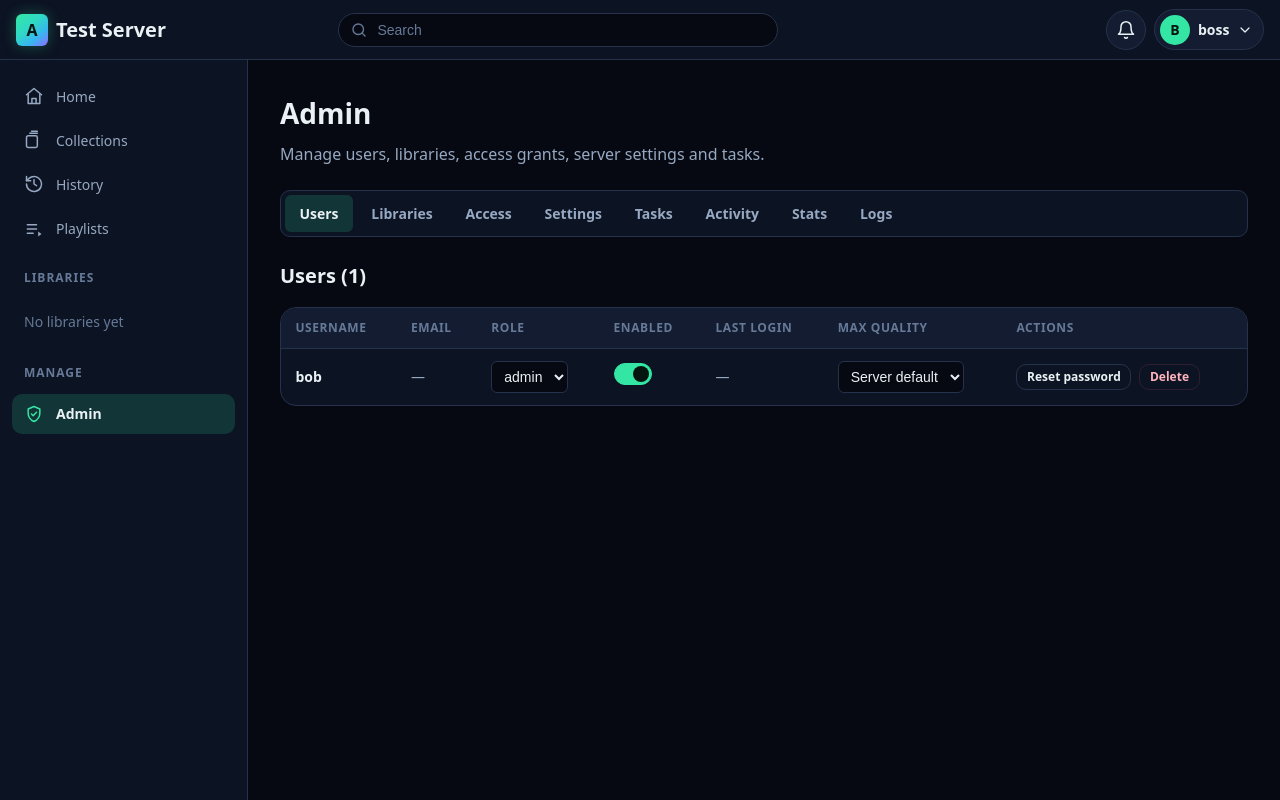
Test: AdminUsersPage › surfaces the last-admin 409 as a friendly message
Check: the text "bob" is shown, box [281, 349, 396, 405]
Select "user" in the 1st dropdown named "Role for bob" at (530,377), box [491, 361, 568, 393]
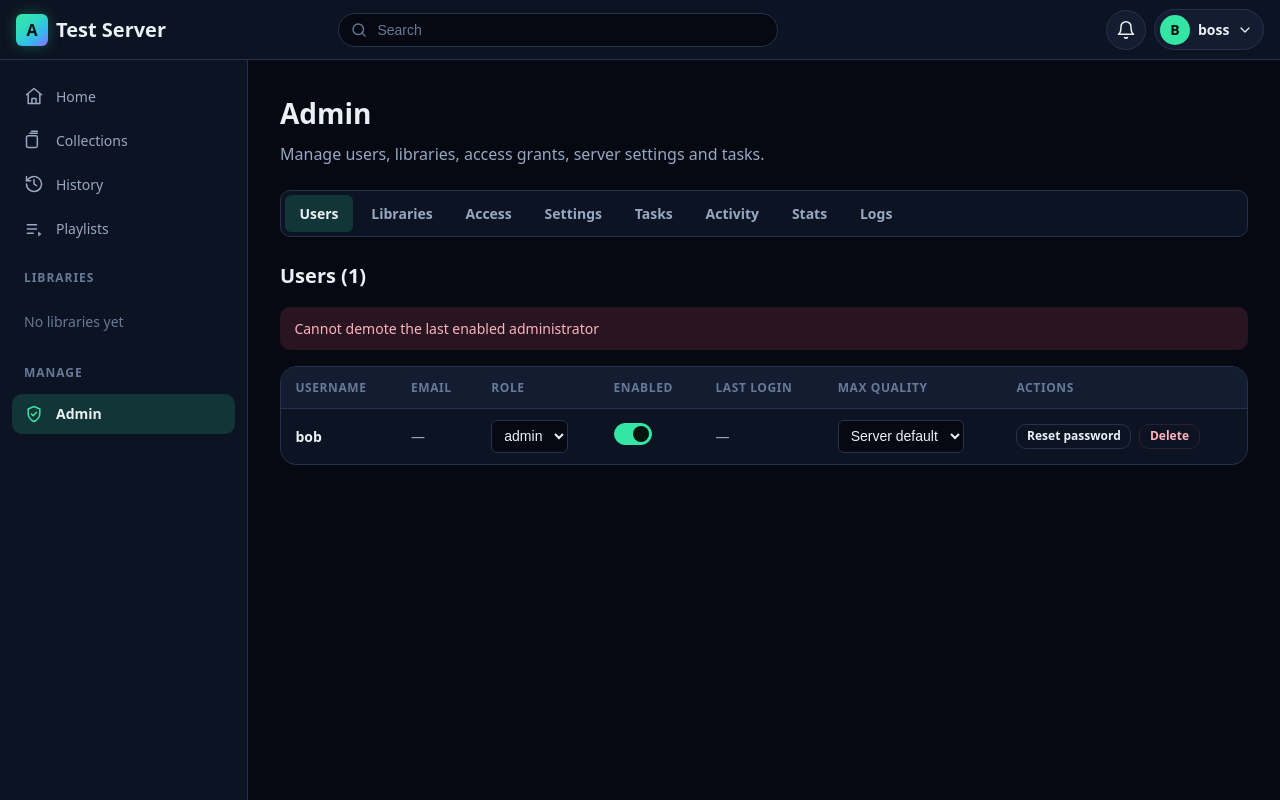
Check: the message shows "last enabled administrator", box [294, 319, 599, 338]
